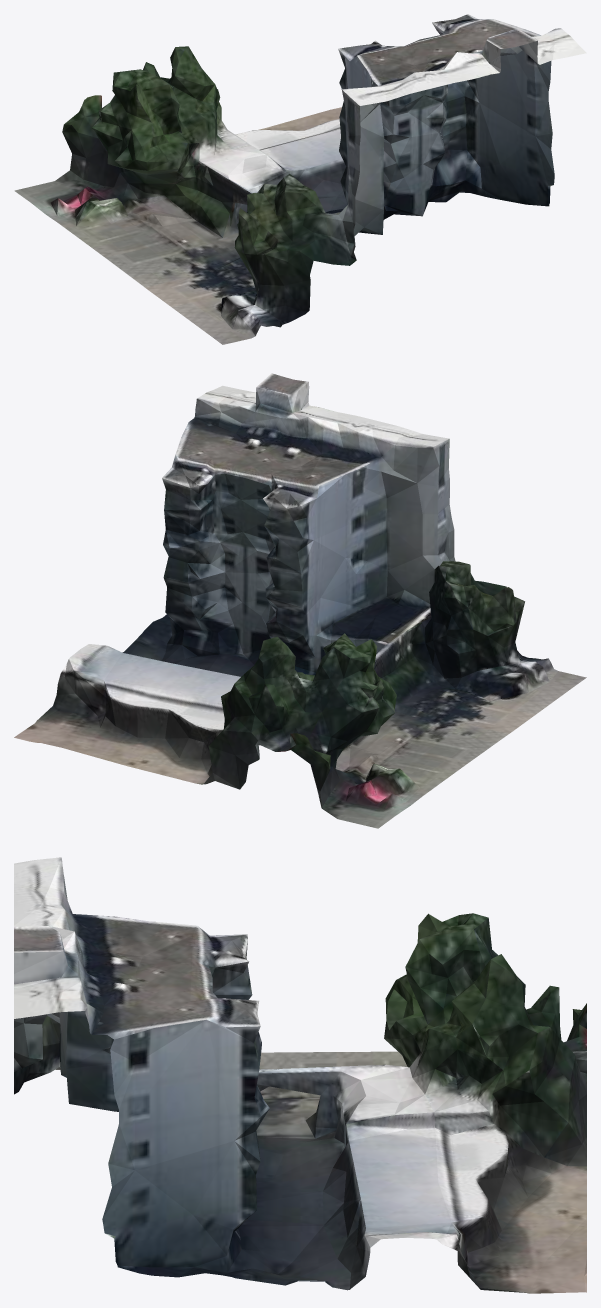
File: helsinki-5-7.glb
The picture shows the model from 3 angles, top to bottom: view 1: azimuth 30°, elevation 25°; view 2: azimuth 150°, elevation 25°; view 3: azimuth 270°, elevation 25°; orthographic projection. The views are drawn at different scales.
Size of the model in its own units: 31.75 by 19.11 by 31.5.
1 material, 1 textured.
